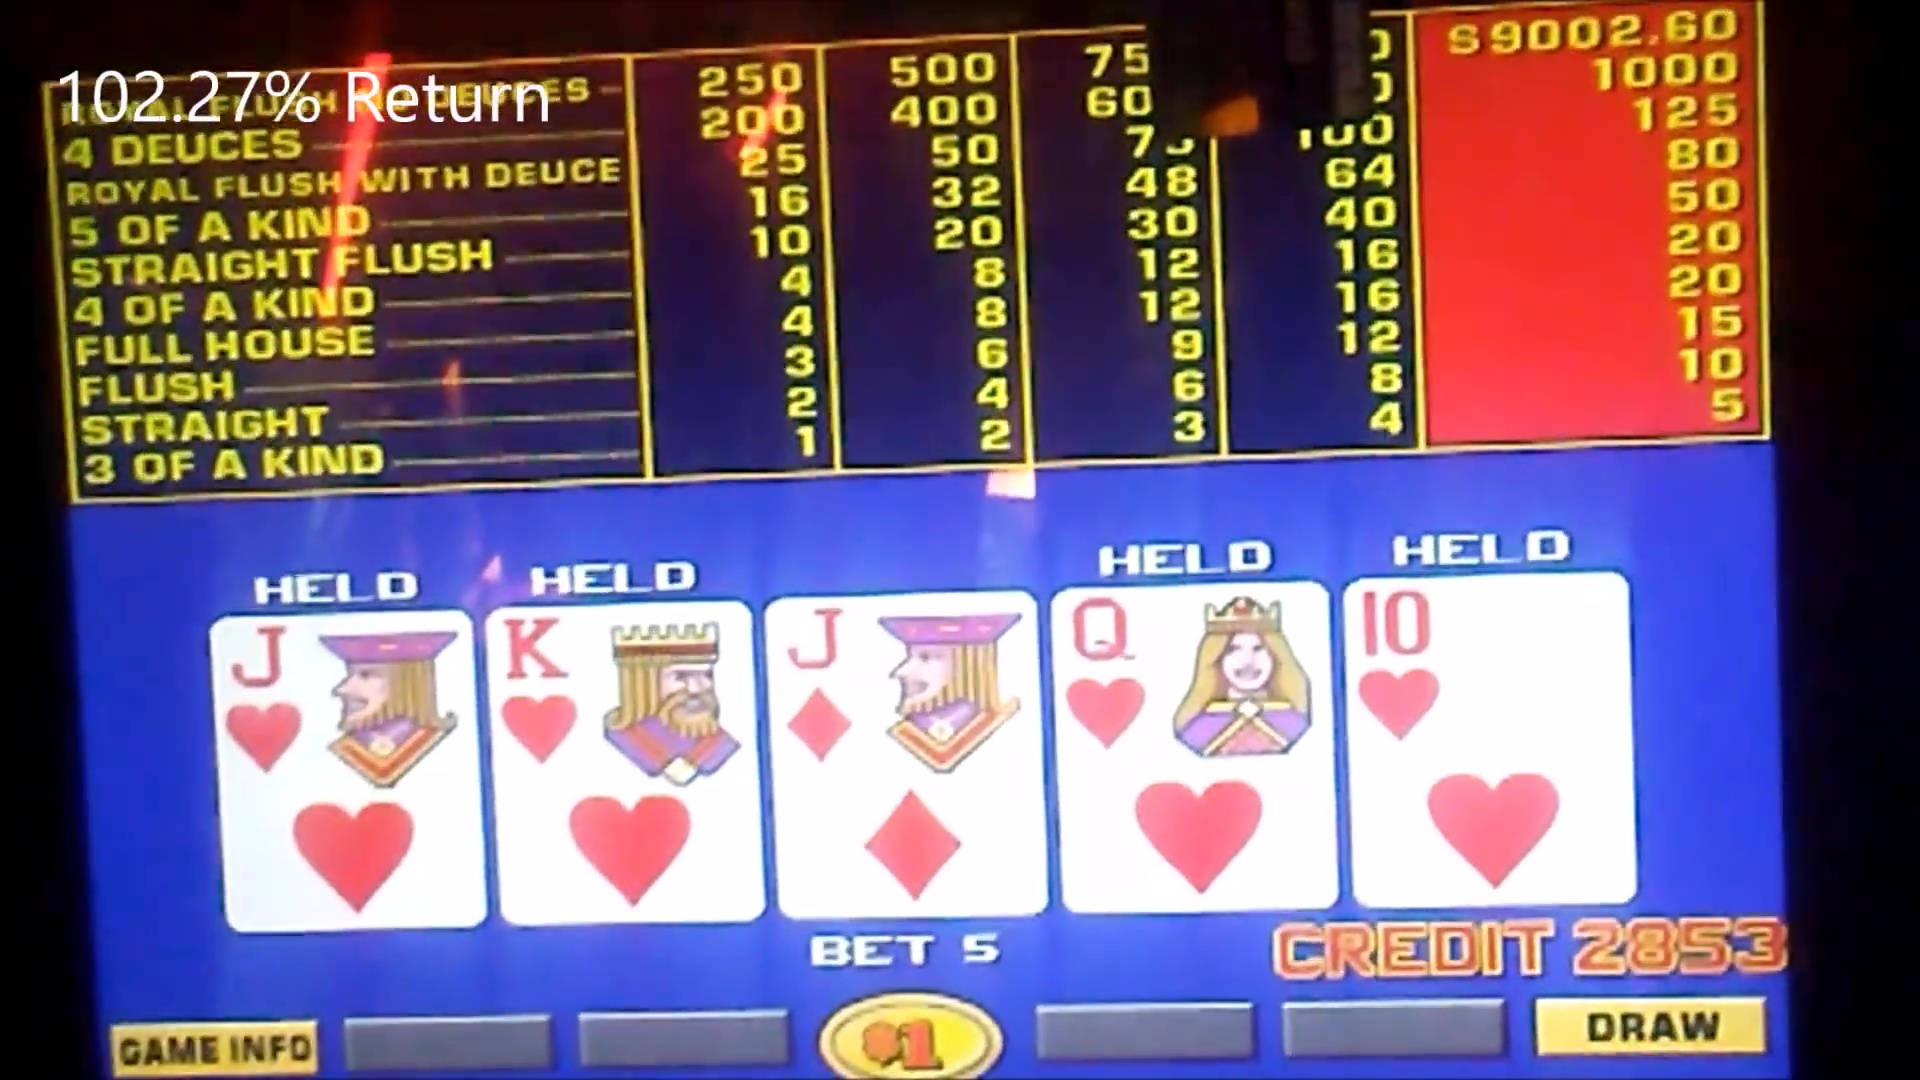DJ: (773, 589, 1040, 920)
HJ: (228, 615, 476, 931)
HK: (491, 607, 752, 924)
HQ: (1062, 583, 1329, 913)
HT: (1349, 578, 1627, 913)
